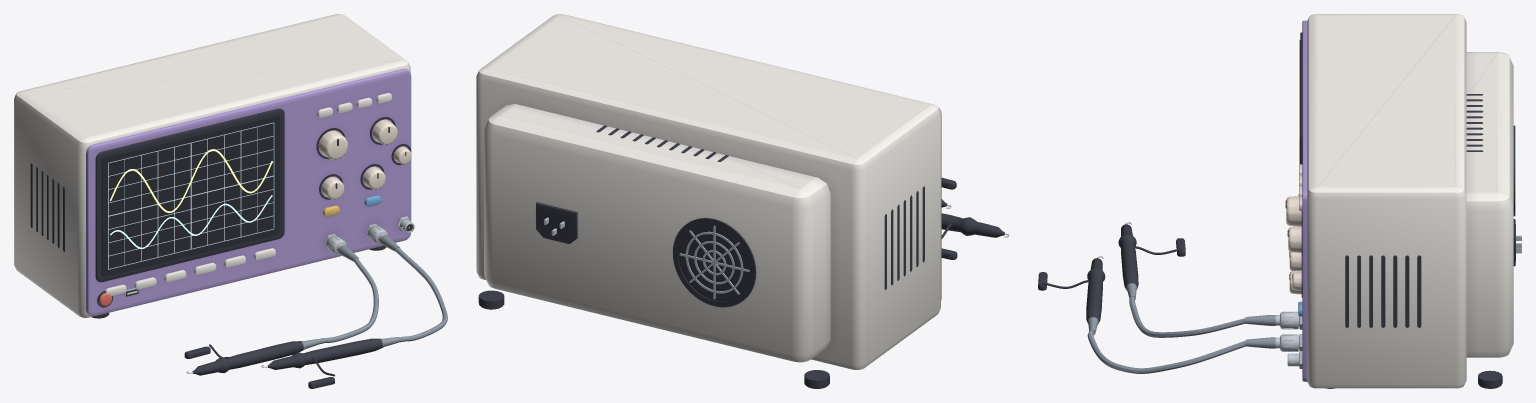
Rendered from oscilloscope.glb.
The picture shows the model from 3 angles, left to right: view 1: azimuth 30°, elevation 25°; view 2: azimuth 150°, elevation 25°; view 3: azimuth 270°, elevation 25°; orthographic projection. The views are drawn at different scales.
Parts seen in each view (by area): view 1: oscilloscope_body, oscilloscope_traces_rgb; view 2: oscilloscope_body; view 3: oscilloscope_body.
Boxes of the visible parts, <box> form: oscilloscope_body: <box>14,14,447,388</box>; oscilloscope_traces_rgb: <box>108,122,274,269</box>; oscilloscope_body: <box>476,14,1009,388</box>; oscilloscope_body: <box>1038,14,1521,388</box>.
Size of the model in its own units: 0.3206 by 0.1711 by 0.3619.
Materials: 4 (1 with a texture image).
